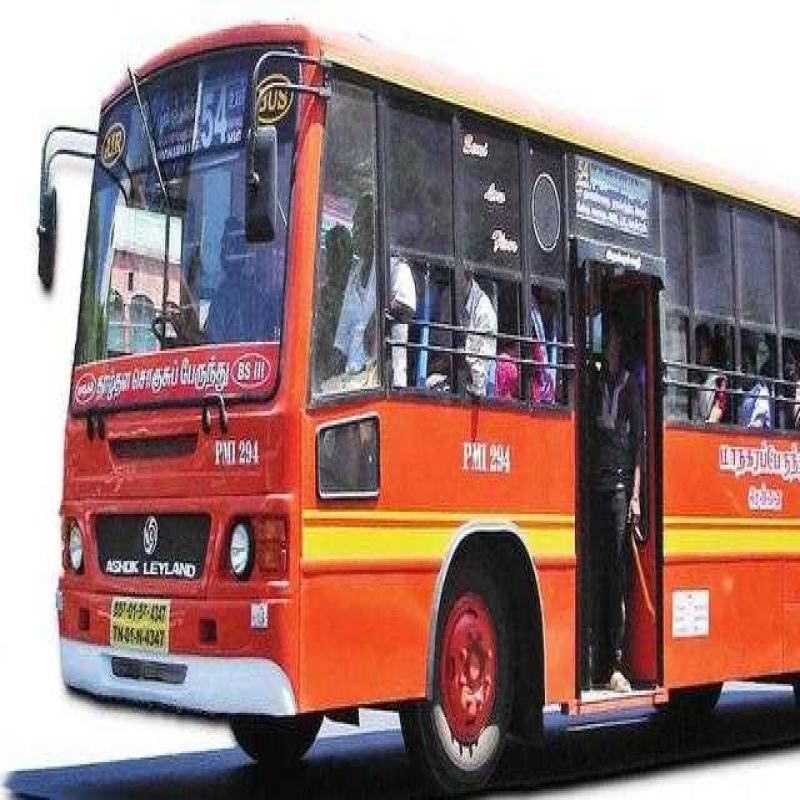bus: (43, 21, 800, 776)
